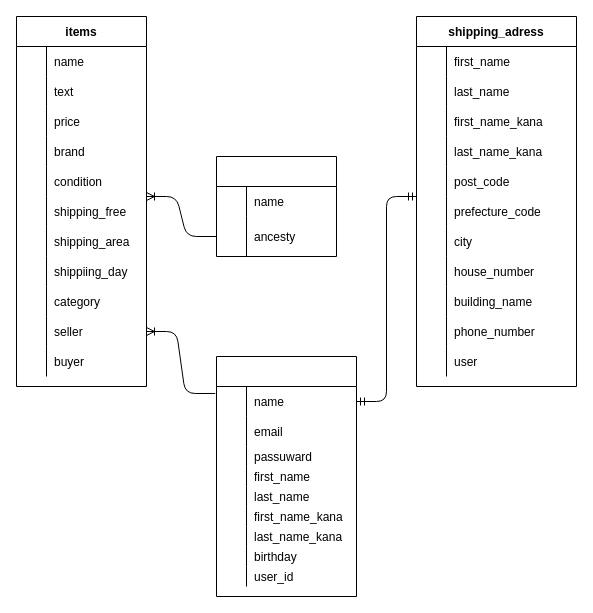
Some shapes in this 593 by 613 pixel diagram are drawn without their labels. Each missing label, with the box of its shape:
item_categories: (216, 156, 336, 256)
users: (216, 356, 356, 596)
